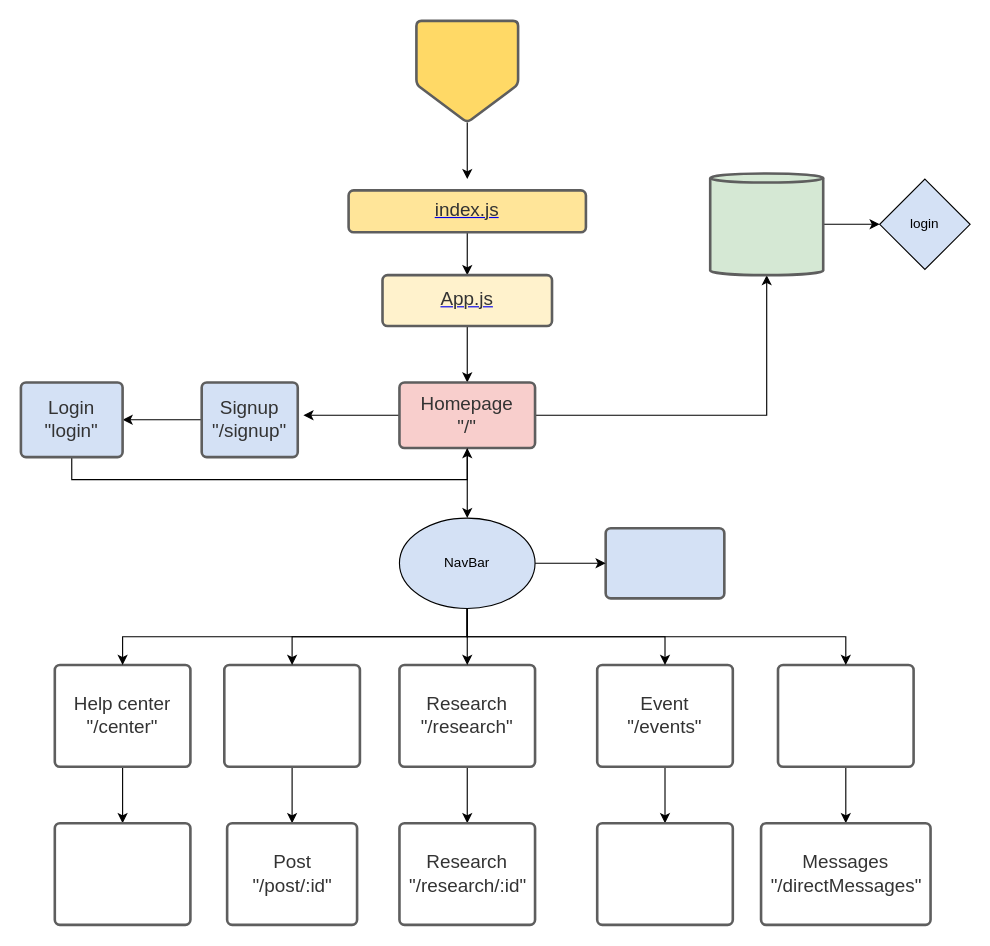
Some shapes in this 990 by 946 pixel diagram are drawn without their labels. Each missing label, with the centre of its shape:
Center "/center/:id": [122,873]
Community "/community": [291,715]
Event "/event/:id": [664,873]
HTML index.html: [467,71]
Logout "/logout": [664,562]
Redux: [766,224]
User "/profile": [845,715]
